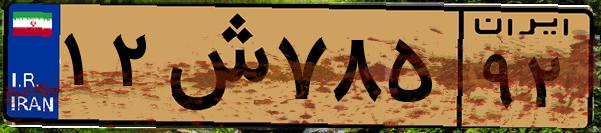1: (57, 26, 110, 100)
2: (525, 38, 570, 115), (110, 28, 158, 98)
5: (385, 28, 445, 110)
7: (270, 28, 330, 110)
8: (330, 28, 385, 110)
9: (475, 38, 525, 113)
ش: (158, 12, 270, 120)
